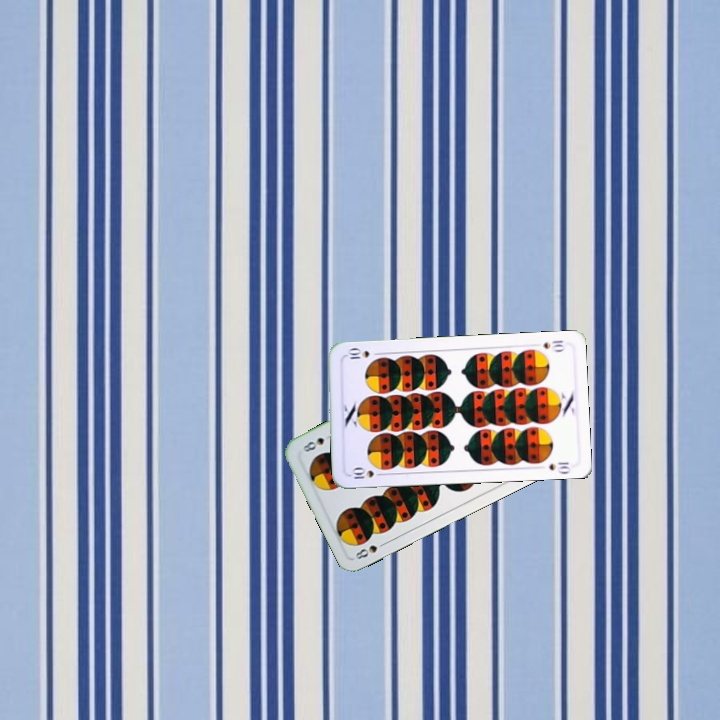S10: (348, 463, 387, 482), (539, 336, 567, 354)
S8: (351, 537, 390, 562)
